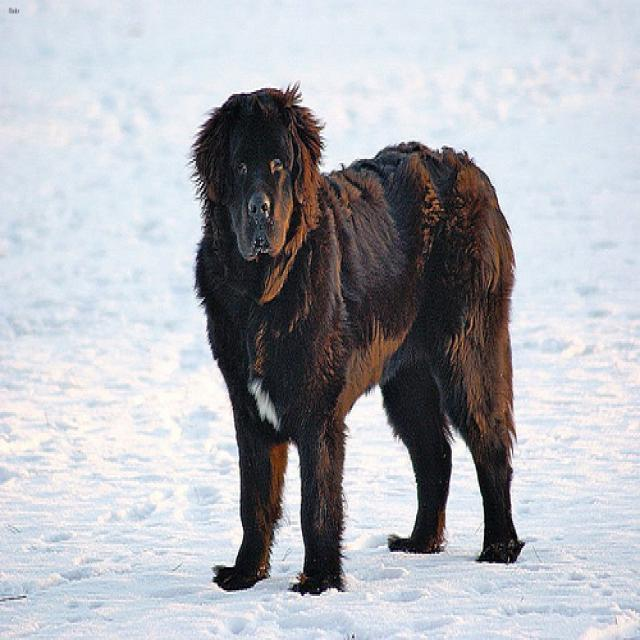dog-newfoundland: (180, 73, 529, 607)
